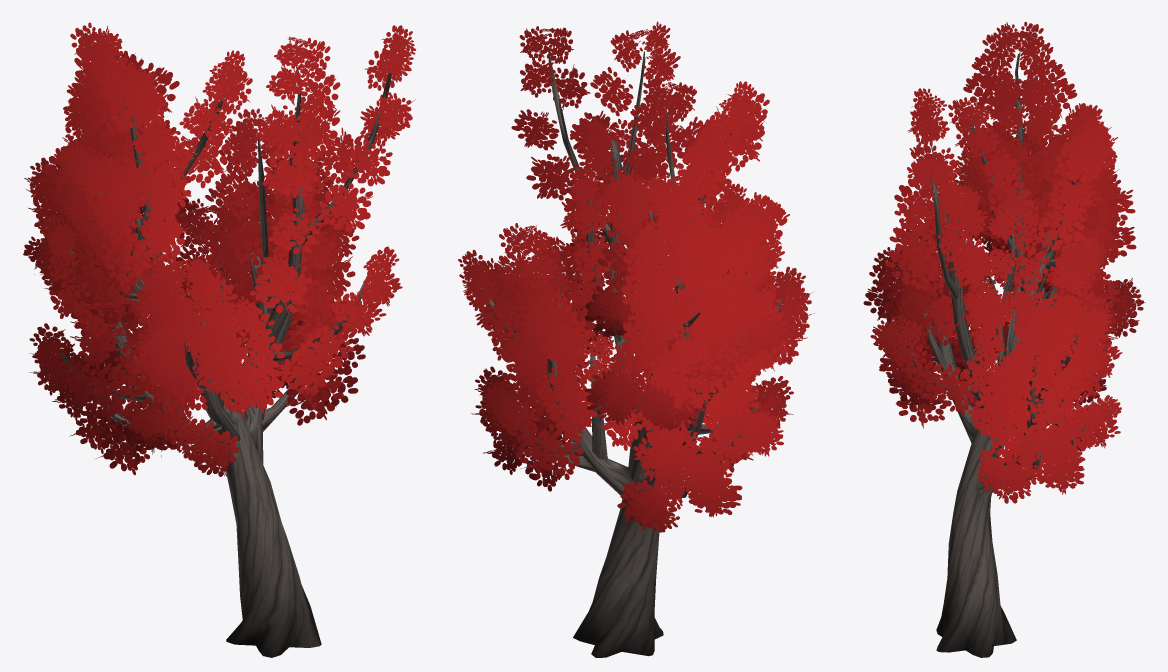
File: tree-late-2-mature.glb
3 views of the same model, side by side, from view 1: azimuth 30°, elevation 25°; view 2: azimuth 150°, elevation 25°; view 3: azimuth 270°, elevation 25° (orthographic). The views are drawn at different scales.
Visible parts, largest first — view 1: TwistedTree_2; view 2: TwistedTree_2; view 3: TwistedTree_2.
Part boxes in pixels (bbox=[...]): TwistedTree_2: bbox=[23, 22, 415, 657]; TwistedTree_2: bbox=[458, 21, 814, 657]; TwistedTree_2: bbox=[863, 21, 1145, 657].
Size of the model in its own units: 3.18 by 5.7 by 2.77.
Materials: 2 (2 with a texture image).
